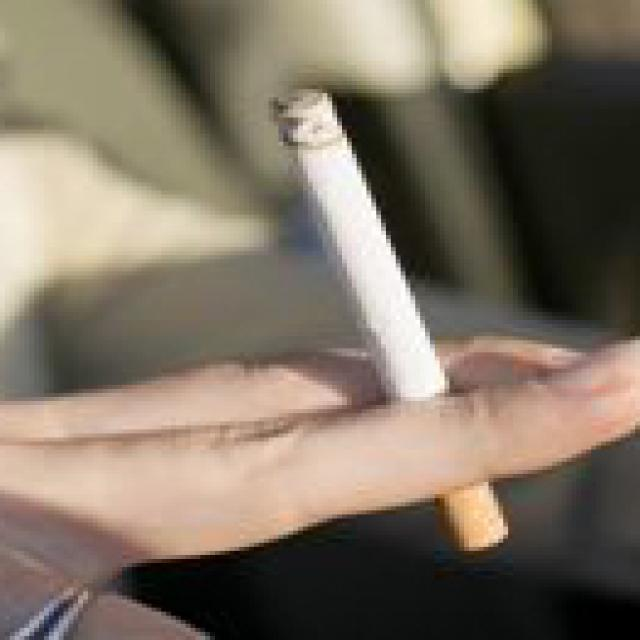smoking: (268, 88, 514, 554)
